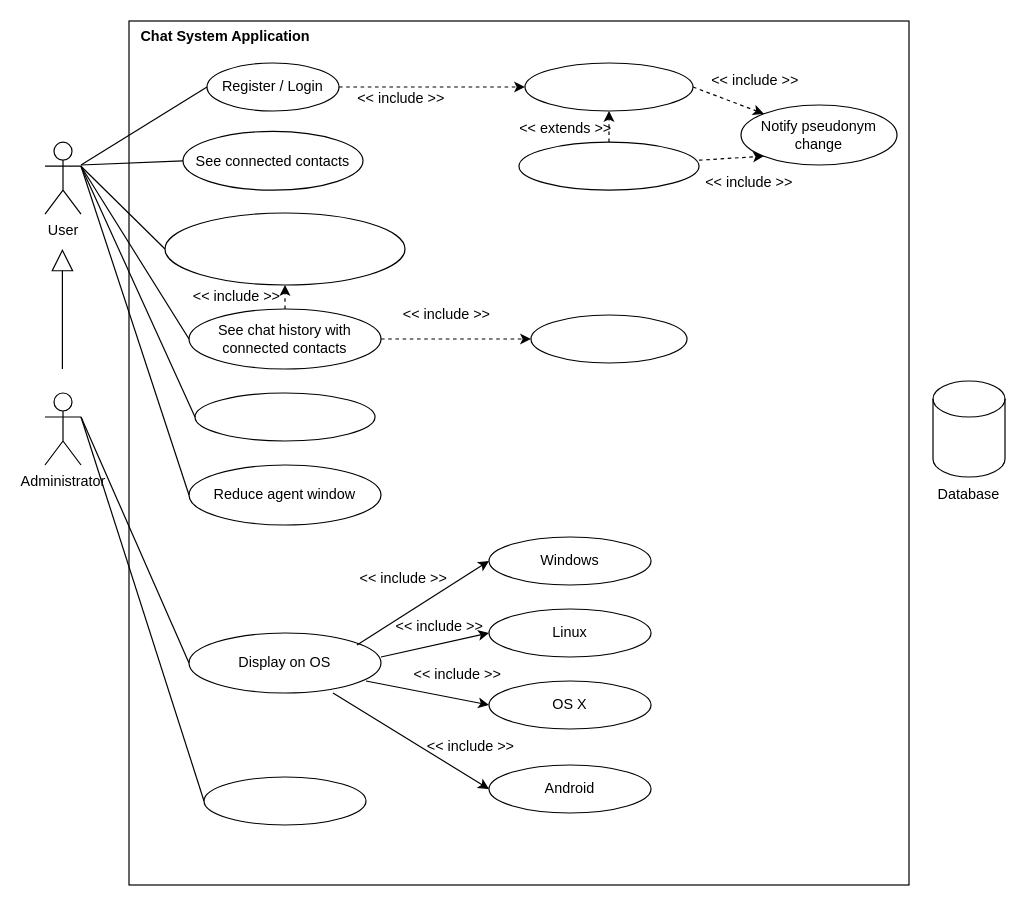
Some shapes in this 1026 by 906 pixel diagram are drawn without their labels. Each missing label, with the centre of its shape:
"Change pseudonym" belongs at point 608,165.
"Choose pseudonym" belongs at point 608,86.
"Close conversation" belongs at point 284,416.
"Moderate" belongs at point 284,800.
"Open chat with connected contacts" belongs at point 284,248.
"See Messages' Timestamp" belongs at point 608,338.
